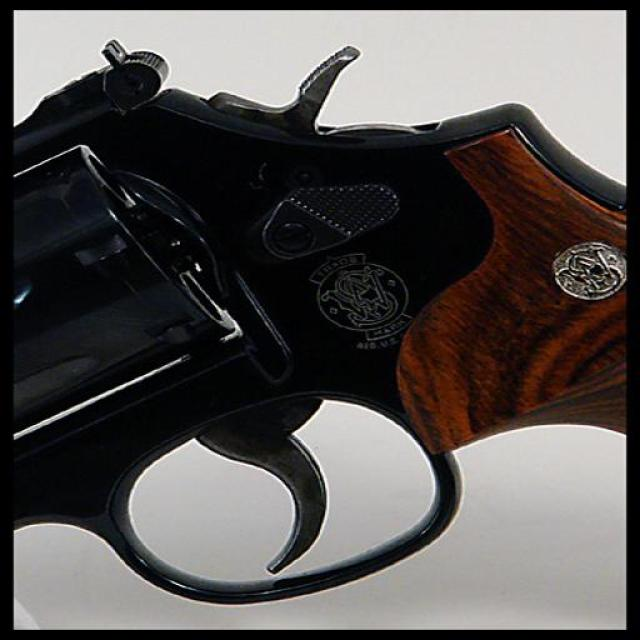pistol: (13, 40, 629, 607)
